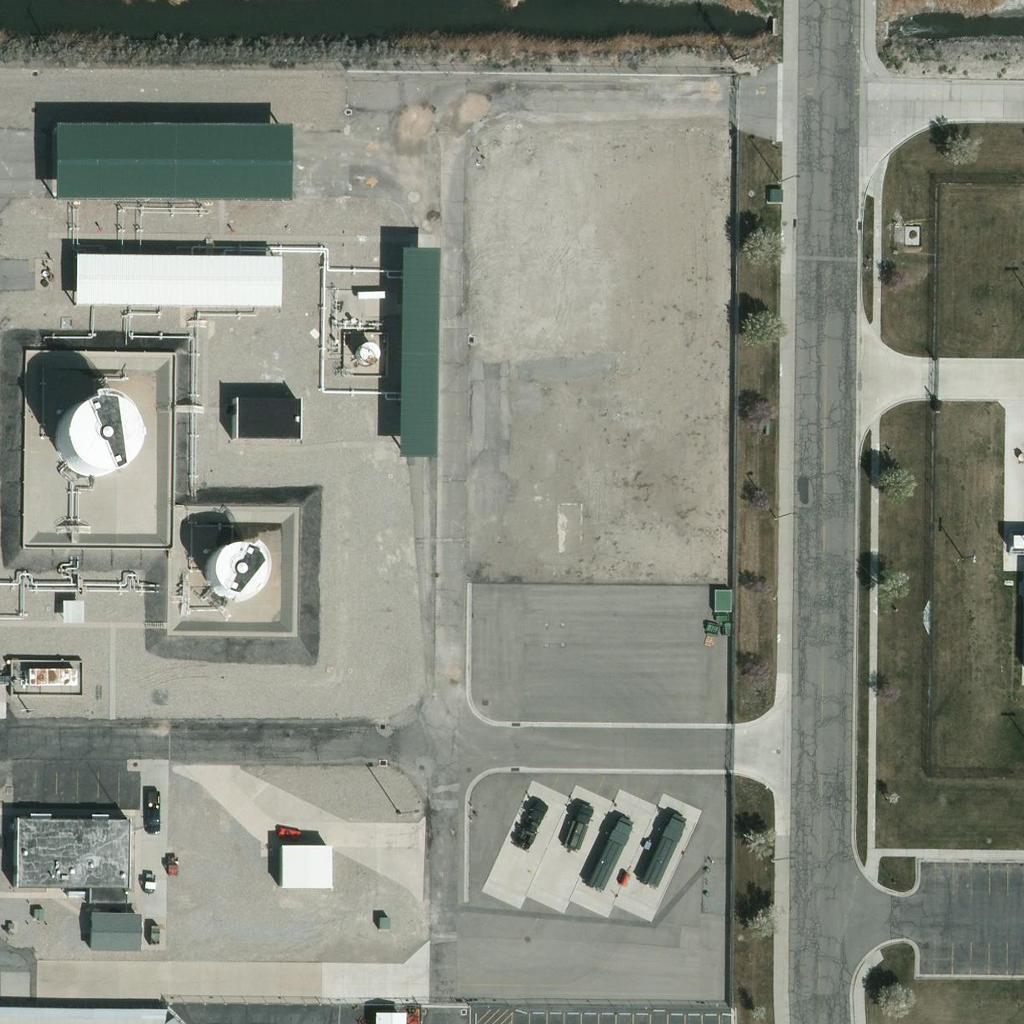car: (135, 798, 169, 832)
